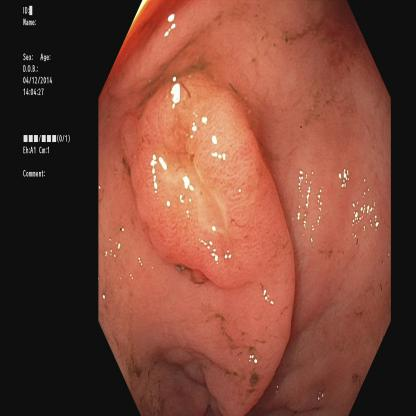Labels: (22, 6, 74, 179)
Polyps: (153, 93, 290, 333)
